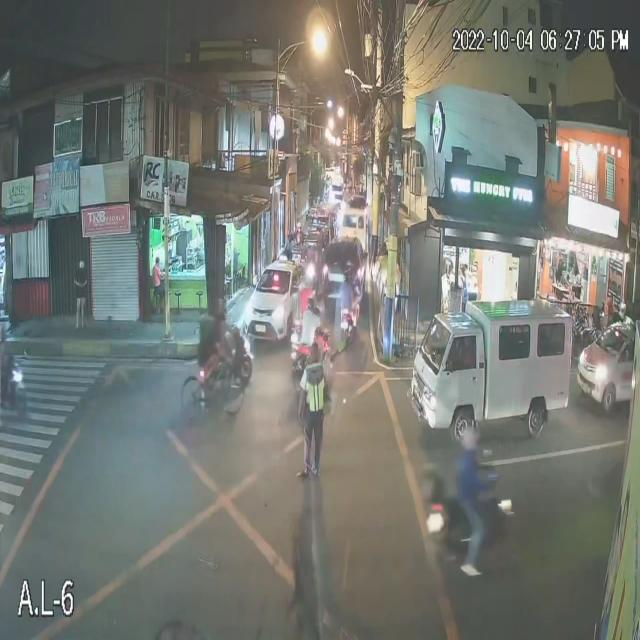Full-Faced: (460, 425, 486, 460), (306, 290, 318, 308)
